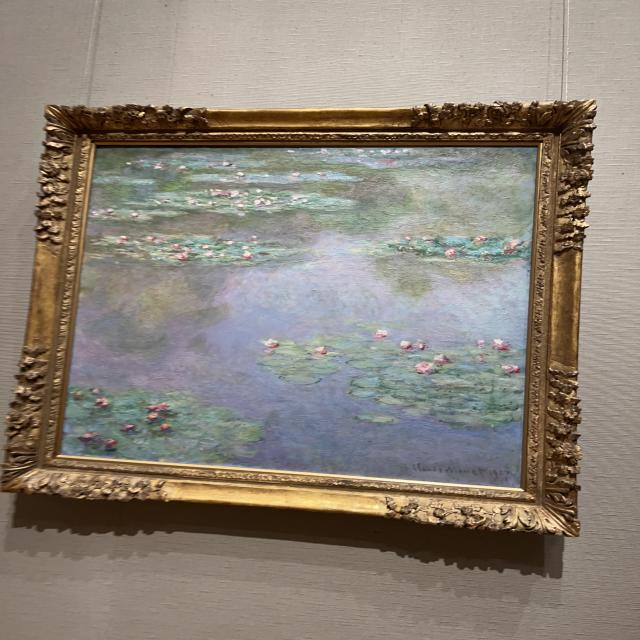lilies: (64, 151, 534, 484)
